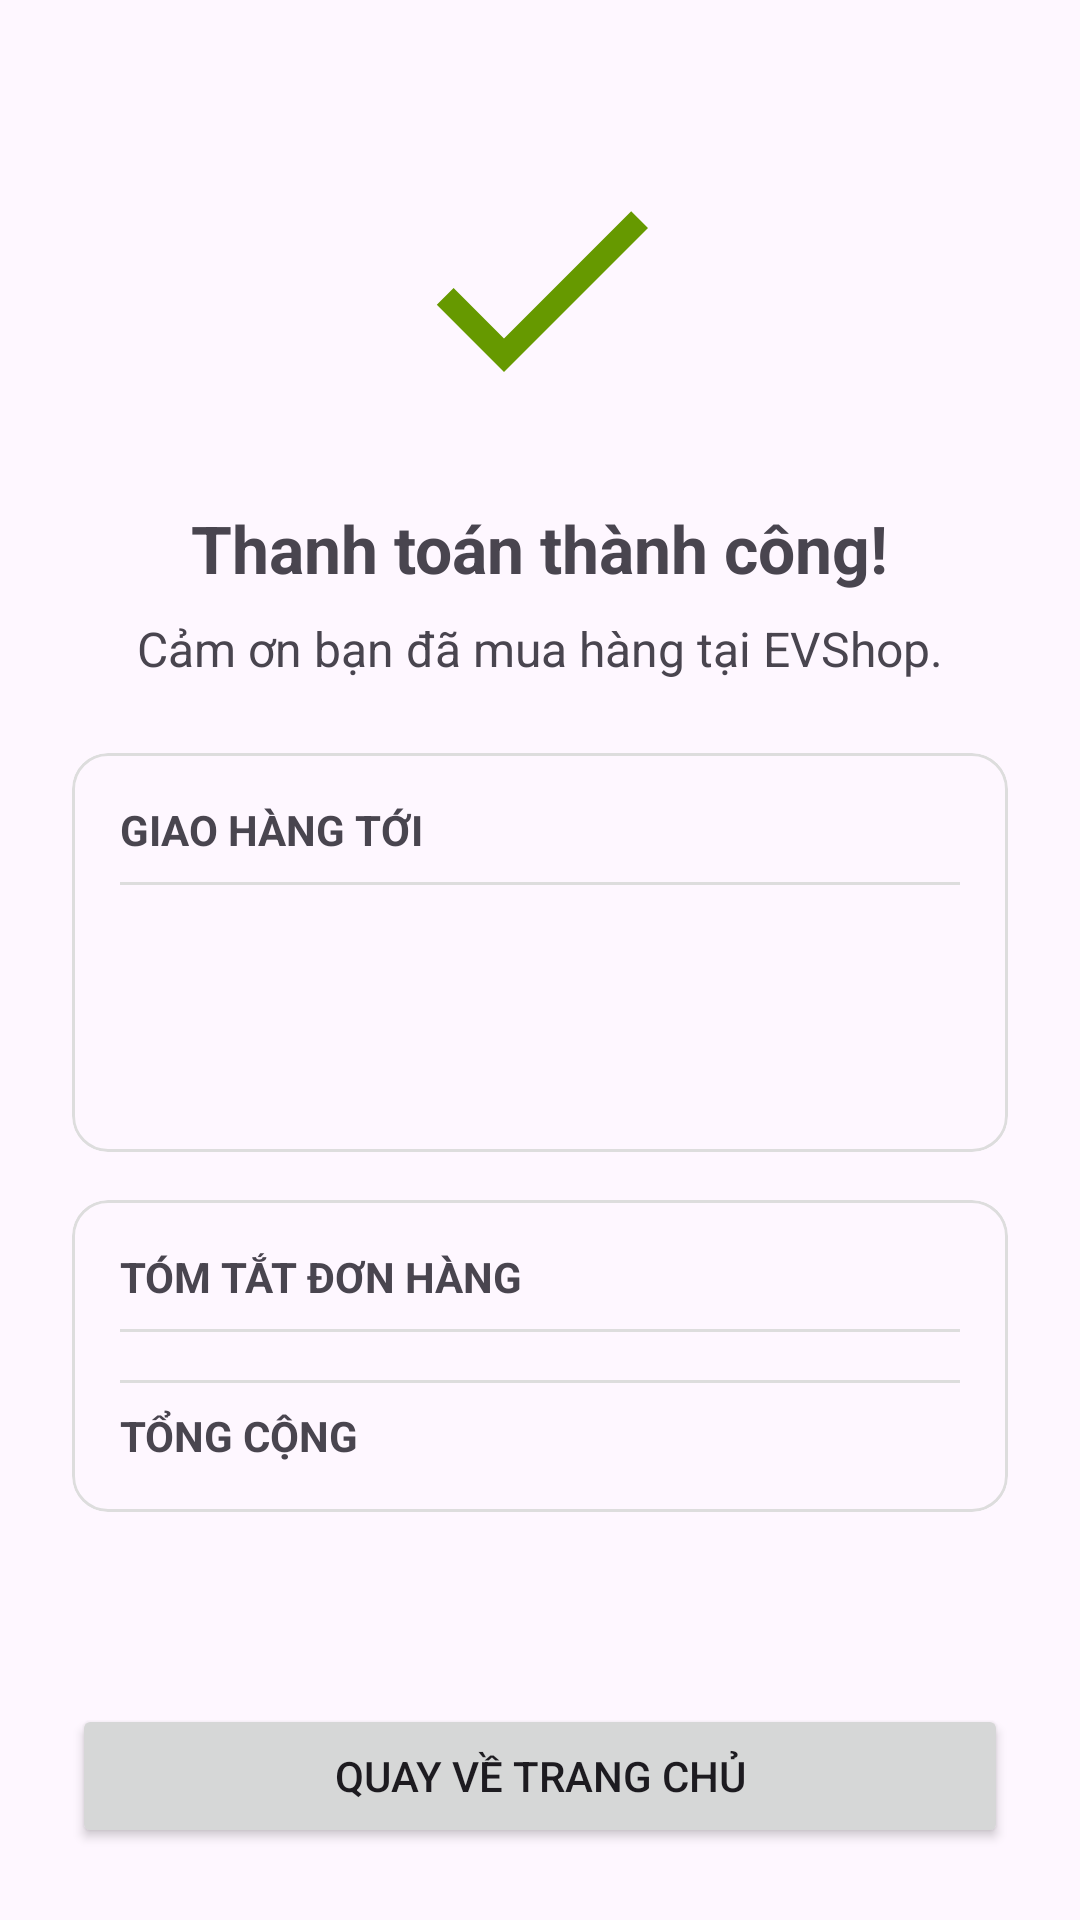

Icons on this 1080px×1920px Android screen, each with the point to tap as (x=x, y=y):
success checkmark: (x=542, y=291)
